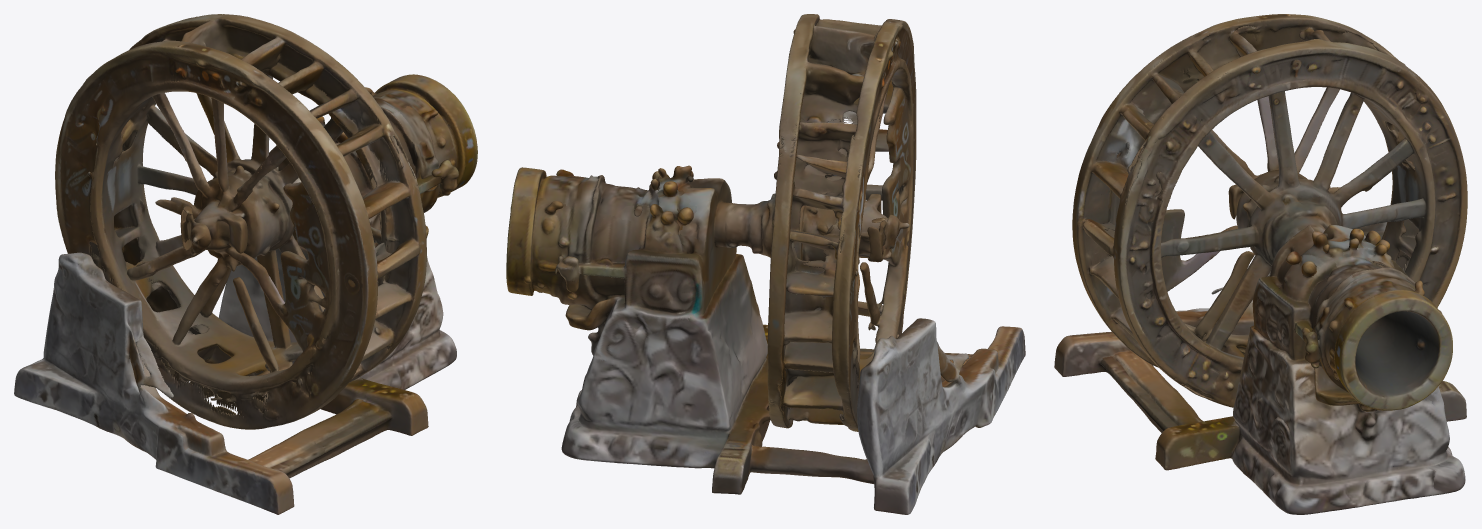
File: prop_vaelor_turbine_wheel.glb
3 renders of one model, left to right at view 1: azimuth 30°, elevation 25°; view 2: azimuth 150°, elevation 25°; view 3: azimuth 270°, elevation 25°, orthographic. The views are drawn at different scales.
Visible parts, largest first — view 1: tripo_node_53d2a571-26fc-474f-be46-1b7faa536caf; view 2: tripo_node_53d2a571-26fc-474f-be46-1b7faa536caf; view 3: tripo_node_53d2a571-26fc-474f-be46-1b7faa536caf.
Boxes of the visible parts, left/top/right/bottom form: tripo_node_53d2a571-26fc-474f-be46-1b7faa536caf: left=14, top=14, right=477, bottom=514; tripo_node_53d2a571-26fc-474f-be46-1b7faa536caf: left=506, top=14, right=1025, bottom=514; tripo_node_53d2a571-26fc-474f-be46-1b7faa536caf: left=1054, top=14, right=1467, bottom=514.
Size of the model in its own units: 1 by 0.8787 by 0.8725.
Materials: 1 (1 with a texture image).
